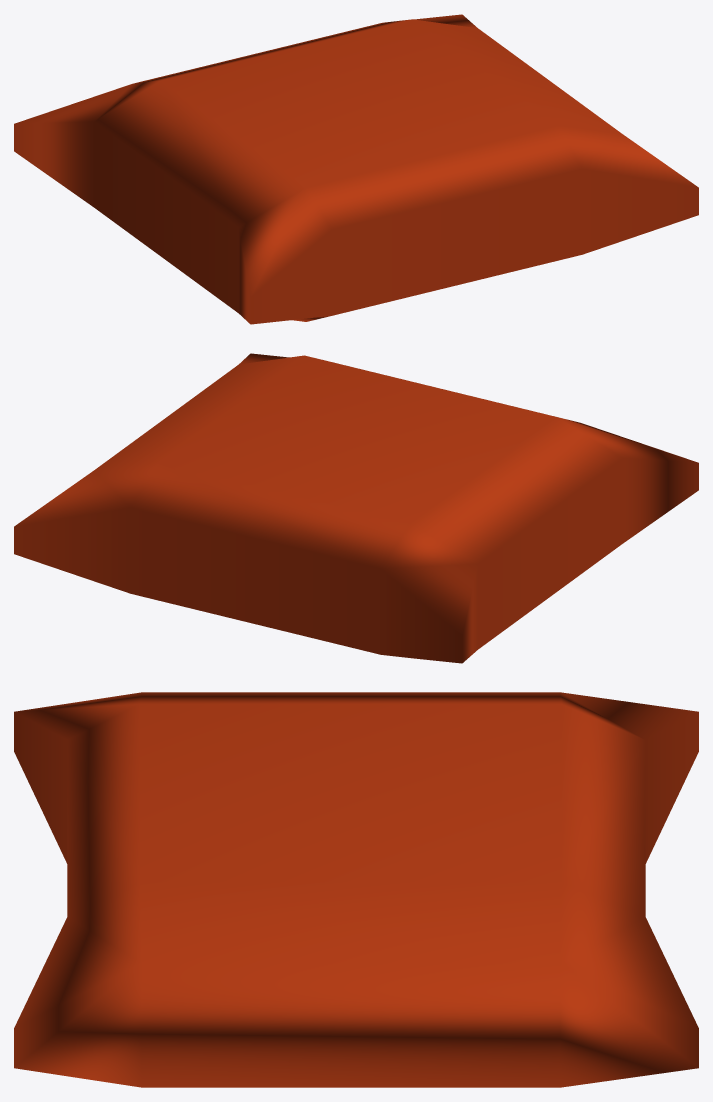
The model's file is CornHoleBeanBagUVtextured.fbx.
3 views of the same model, one above another, from view 1: azimuth 30°, elevation 25°; view 2: azimuth 150°, elevation 25°; view 3: azimuth 270°, elevation 25° (orthographic). The views are drawn at different scales.
Visible parts, largest first — view 1: beanbag3; view 2: beanbag3; view 3: beanbag3.
Boxes of the visible parts, <box> form: beanbag3: <box>14,14,698,324</box>; beanbag3: <box>14,353,698,663</box>; beanbag3: <box>14,692,698,1087</box>.
Size of the model in its own units: 22.55 by 6.47 by 20.61.
1 material, 1 textured.
